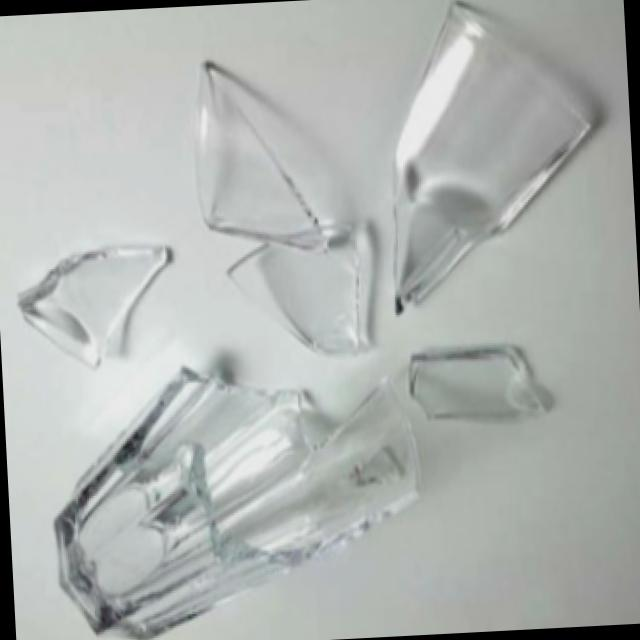PecahanKaca: (6, 0, 626, 640), (43, 353, 429, 640), (376, 0, 604, 319), (12, 242, 178, 376)
